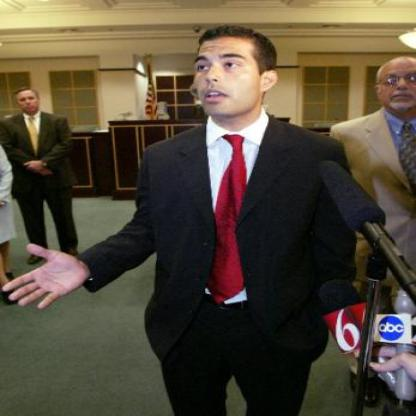face: (196, 30, 269, 118), (19, 90, 42, 115)
